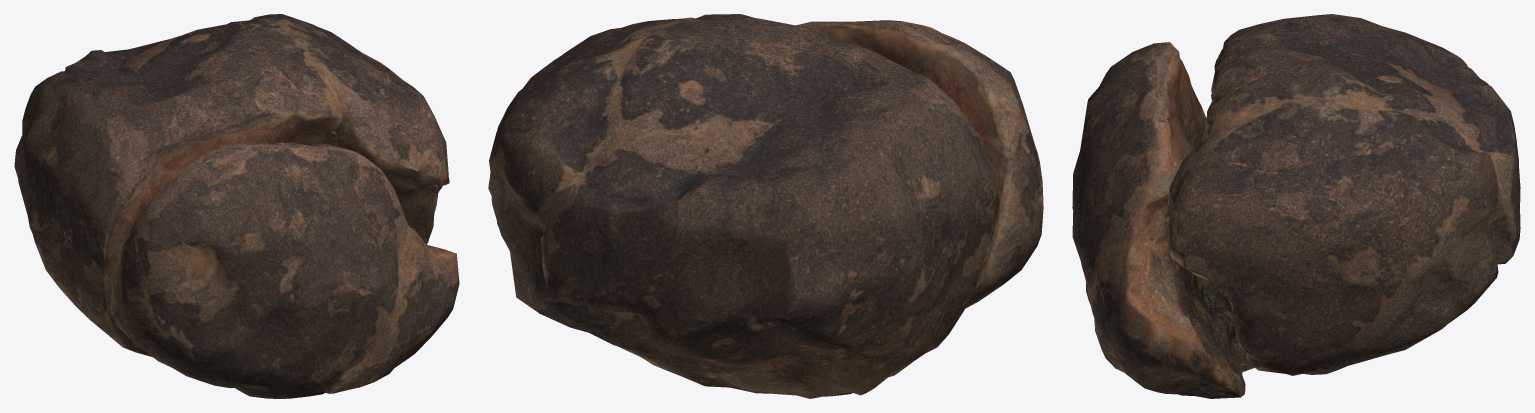
File: SM_ydtmche_tier_2.gltf
3 renders of one model, left to right at view 1: azimuth 30°, elevation 25°; view 2: azimuth 150°, elevation 25°; view 3: azimuth 270°, elevation 25°, orthographic. The views are drawn at different scales.
Visible parts, largest first — view 1: ydtmche_LOD2_TIER2_000; view 2: ydtmche_LOD2_TIER2_000; view 3: ydtmche_LOD2_TIER2_000.
Boxes of the visible parts, x1,y1,x2,y2 form: ydtmche_LOD2_TIER2_000: [14, 14, 459, 398]; ydtmche_LOD2_TIER2_000: [488, 14, 1043, 398]; ydtmche_LOD2_TIER2_000: [1072, 14, 1520, 398].
Size of the model in its own units: 0.5289 by 0.3822 by 0.5541.
1 material, 1 textured.
